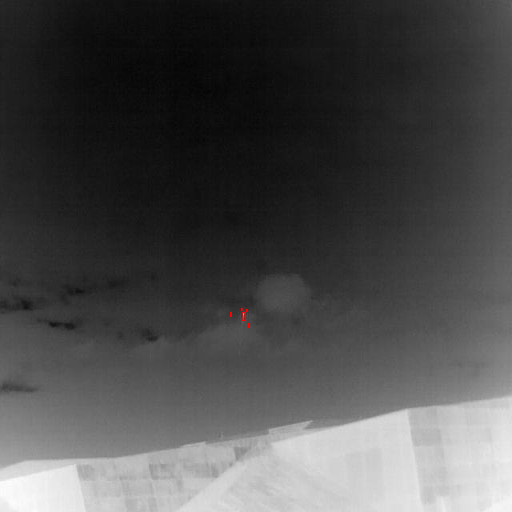Target: (242, 312, 245, 320), (230, 312, 231, 316), (248, 323, 249, 327), (246, 309, 247, 311), (241, 308, 242, 310)
